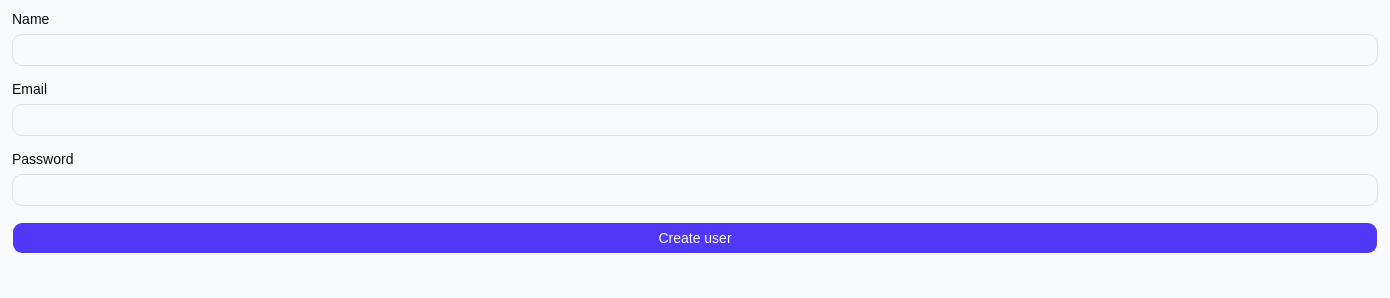
UserForm › validation › rejects a password that is short (too short)
The image size is (1390, 298).
Type "Alice" into the field labelled "Name" at {"x": 695, "y": 50}, box [12,34,1378,66]
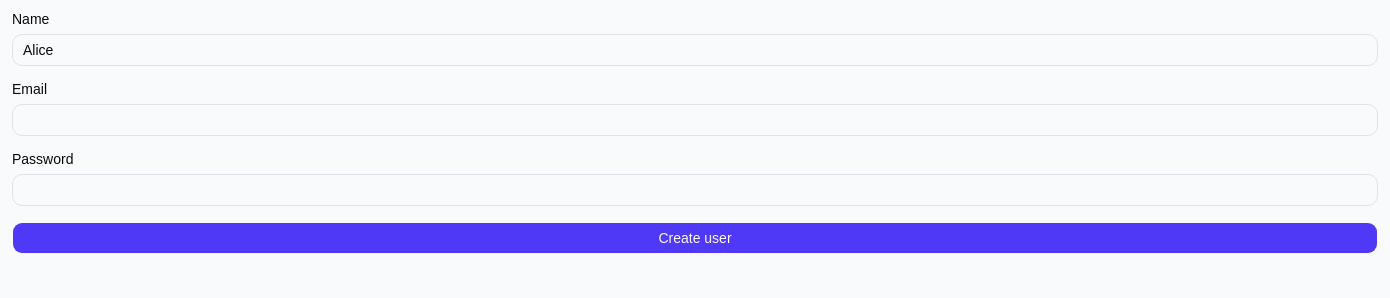
Type "alice@example.com" into the field labelled "Email" at {"x": 695, "y": 120}, box [12,104,1378,136]
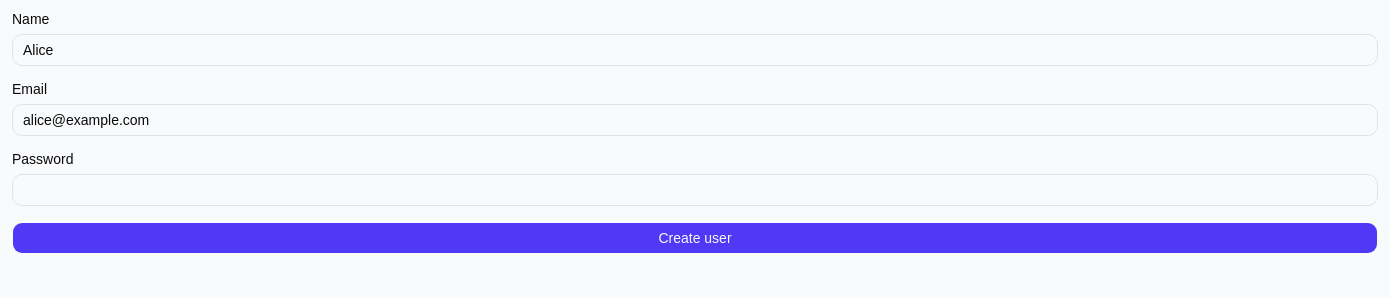
Type "short" into the password field labelled "Password" at {"x": 695, "y": 190}, box [12,174,1378,206]
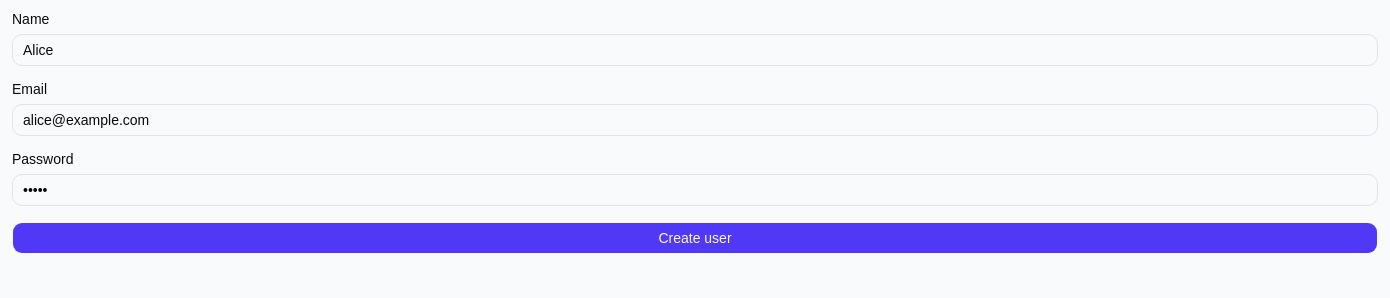
Click the button "Create user" at {"x": 695, "y": 238}, box [12,222,1378,254]
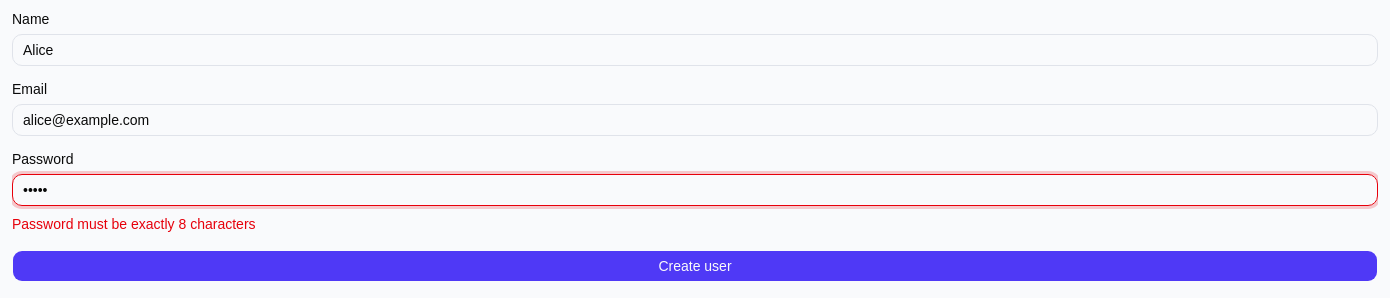
expect the text "Password must be exactly 8 characters" is shown: met, box [12,216,256,232]
